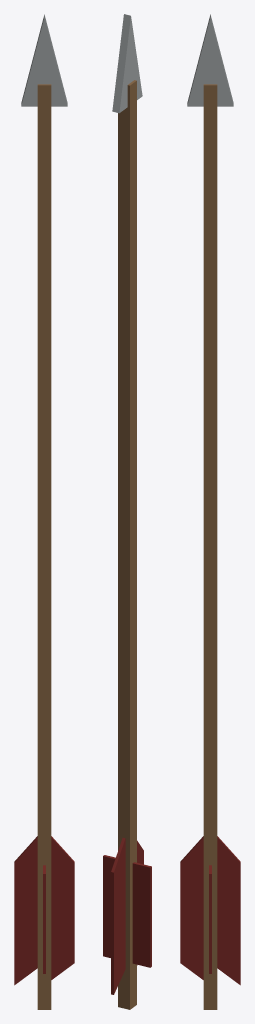
File: SM_Wep_Arrows.glb
3 views of the same model, side by side, from view 1: azimuth 90°, elevation 25°; view 2: azimuth 150°, elevation 25°; view 3: azimuth 270°, elevation 25° (orthographic).
Visible parts, largest first — view 1: SM_Wep_Arrows; view 2: SM_Wep_Arrows; view 3: SM_Wep_Arrows.
Part boxes in pixels (x1,y1,x2,y2): SM_Wep_Arrows: [14, 14, 74, 1009]; SM_Wep_Arrows: [103, 14, 151, 1009]; SM_Wep_Arrows: [180, 14, 240, 1009].
Bounding box in the file's own units: 0.04 × 0.8 × 0.044.
Materials: 1 (1 with a texture image).
